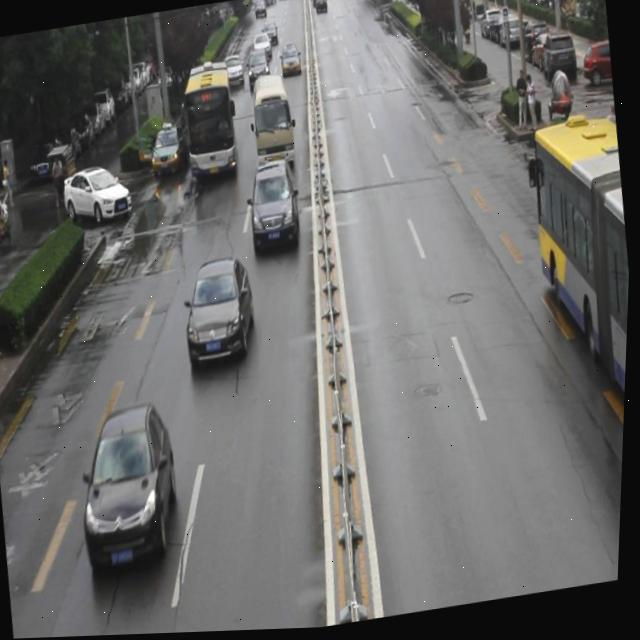car: (72, 398, 188, 578), (181, 257, 261, 366), (245, 160, 305, 259), (62, 161, 137, 233), (148, 134, 192, 193)
truck: (248, 77, 299, 174)
van: (515, 127, 636, 497), (179, 59, 243, 186)
